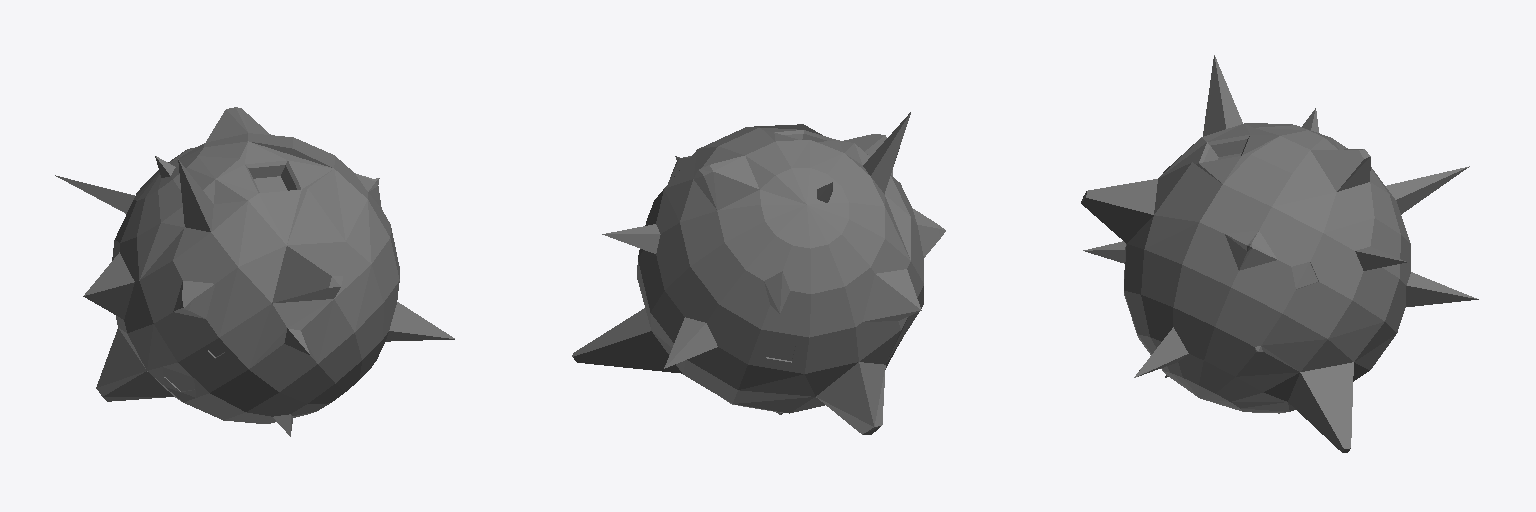
The model's file is Disgust_base.obj.
3 views of the same model, side by side, from view 1: azimuth 30°, elevation 25°; view 2: azimuth 150°, elevation 25°; view 3: azimuth 270°, elevation 25° (orthographic).
Parts seen in each view (by area): view 1: Disgust_base:pPlane4; view 2: Disgust_base:pPlane4; view 3: Disgust_base:pPlane4.
Boxes of the visible parts, x1,y1,x2,y2 form: Disgust_base:pPlane4: [55, 107, 454, 436]; Disgust_base:pPlane4: [572, 112, 945, 434]; Disgust_base:pPlane4: [1081, 55, 1478, 452].
Bounding box in the file's own units: 3.78 × 3.27 × 3.99.